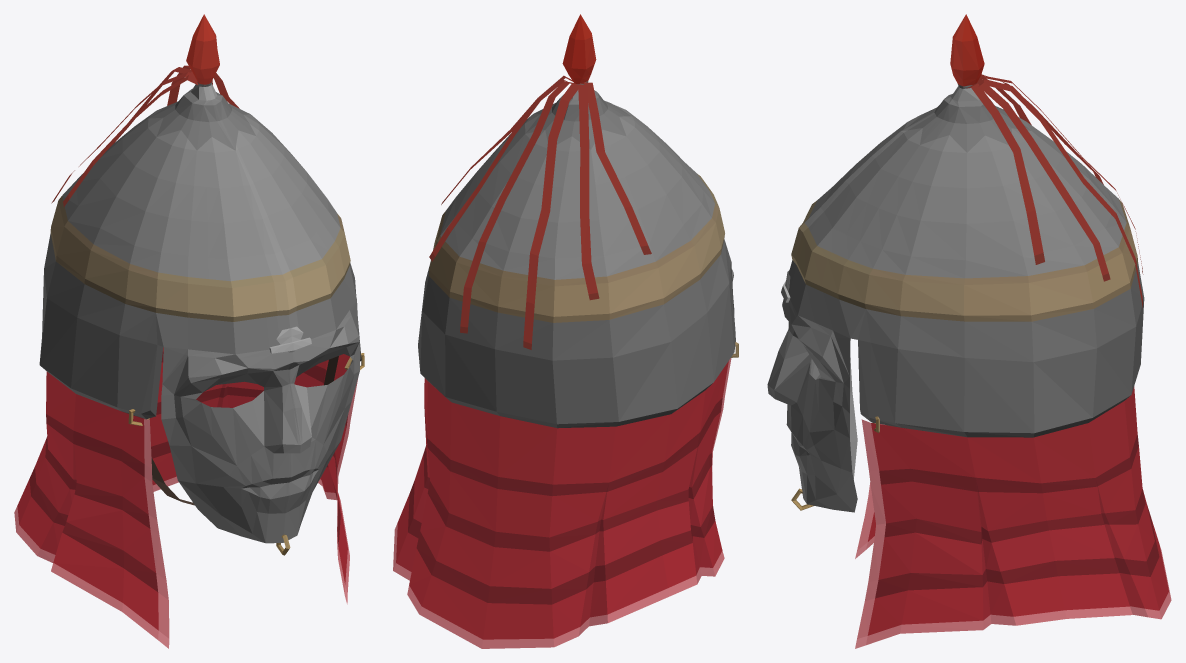
Rendered from slavicFaceHelmetFemale.glb.
The picture shows the model from 3 angles, left to right: view 1: azimuth 30°, elevation 25°; view 2: azimuth 150°, elevation 25°; view 3: azimuth 270°, elevation 25°; orthographic projection. The views are drawn at different scales.
Visible parts, largest first — view 1: slavicFaceHelmet; view 2: slavicFaceHelmet; view 3: slavicFaceHelmet.
Boxes of the visible parts, <box> form: slavicFaceHelmet: <box>14,14,364,648</box>; slavicFaceHelmet: <box>393,14,738,648</box>; slavicFaceHelmet: <box>767,14,1171,648</box>.
Size of the model in its own units: 0.2843 by 0.5376 by 0.3336.
